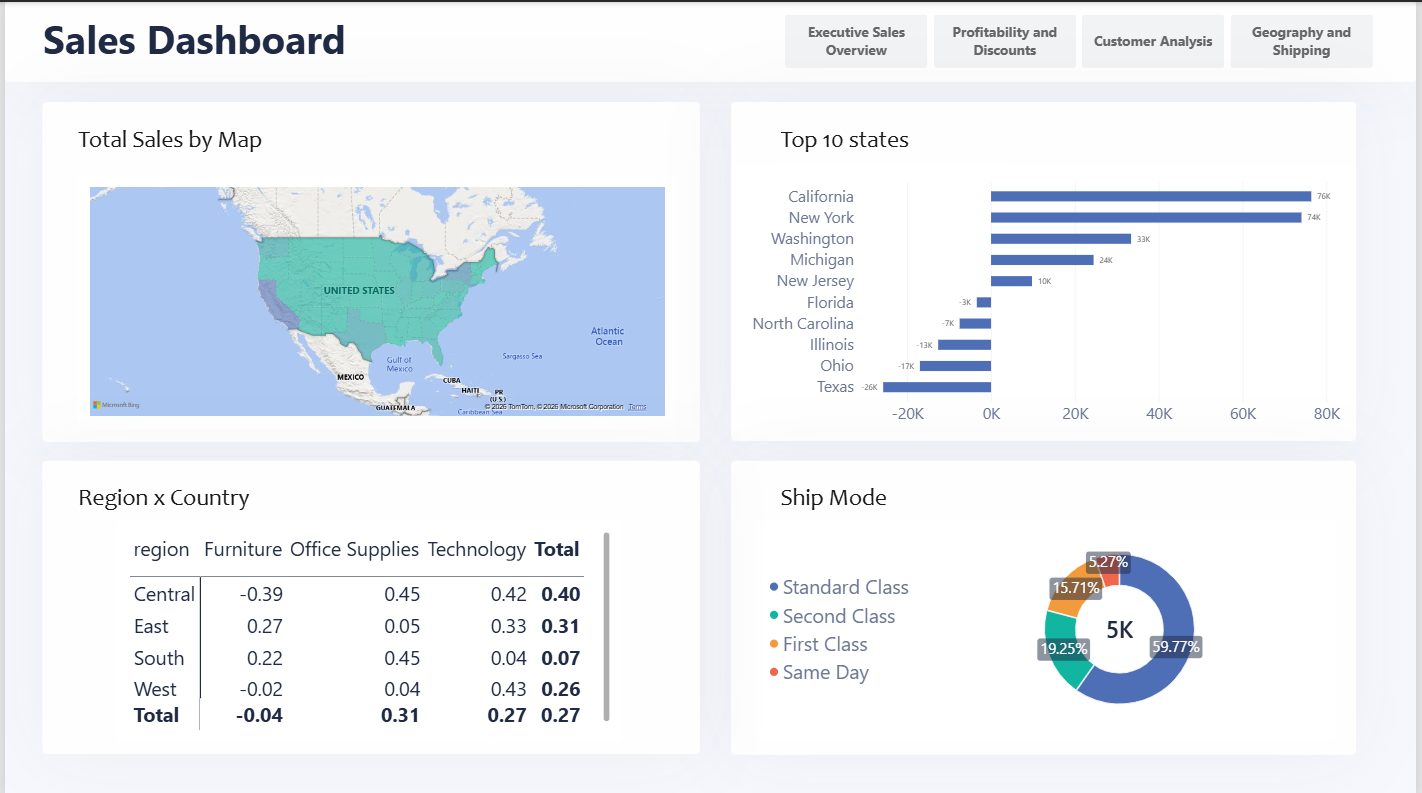

This screenshot's page, from the dashboard's own definition file:
{"tool":"powerbi","page":{"name":"Geography and Shipping","canvas":[1920,1080],"ordinal":3},"visuals":[{"type":"shape","box":[0,0,1920.8,108.9],"z":0},{"type":"textbox","box":[51,11.9,445.7,85.1],"z":1000},{"type":"pageNavigator","box":[1062.2,17.4,800.6,73.3],"z":2000},{"type":"shape","box":[50.6,136,894.8,462.2],"z":3000},{"type":"textbox","box":[99.4,167.4,458.7,55.8],"z":4000},{"type":"filledMap","fields":{"Category":["dim_location.state"]},"box":[99.4,237.2,816.6,343.7],"z":5000},{"type":"shape","box":[988.5,136.1,850.7,461.1],"z":6000},{"type":"textbox","box":[1055.2,167.4,317.4,55.8],"z":7000},{"type":"clusteredBarChart","fields":{"Category":["dim_location.state"],"Y":["fact_sales.Total Profit"]},"box":[988.5,222.9,850.7,374.3],"z":8000},{"type":"shape","box":[988.5,624.4,850.7,399.8],"z":9000},{"type":"textbox","box":[1055.2,654.1,273.8,55.8],"z":10000},{"type":"donutChart","fields":{"Category":["fact_sales.ship_mode"],"Y":["fact_sales.Orders"]},"box":[1018.6,706.4,791.9,296.5],"z":11000},{"type":"shape","box":[50.6,624.4,894.8,399.4],"z":12000},{"type":"textbox","box":[99.4,654.1,428.7,56.1],"z":13000},{"type":"pivotTable","fields":{"Columns":["dim_product.category"],"Rows":["dim_location.region"],"Values":["fact_sales.Profit Margin %"]},"box":[153.5,706.4,687.2,301.7],"z":14000}]}

Visuals, with their boxes in screenshot pixels (x1, y1, x2, y2), scaled from the page's 1920x1080 canvas onto the 1422x793 screenshot:
shape: box(0, 0, 1421, 80)
textbox: box(38, 9, 368, 71)
pageNavigator: box(787, 13, 1380, 67)
shape: box(37, 100, 700, 439)
textbox: box(74, 123, 413, 164)
filledMap - dim_location.state: box(74, 174, 678, 427)
shape: box(732, 100, 1362, 438)
textbox: box(782, 123, 1017, 164)
clusteredBarChart - dim_location.state x fact_sales.Total Profit: box(732, 164, 1362, 438)
shape: box(732, 458, 1362, 752)
textbox: box(782, 480, 984, 521)
donutChart - fact_sales.ship_mode x fact_sales.Orders: box(754, 519, 1341, 736)
shape: box(37, 458, 700, 752)
textbox: box(74, 480, 391, 521)
pivotTable - dim_product.category x dim_location.region: box(114, 519, 623, 740)
